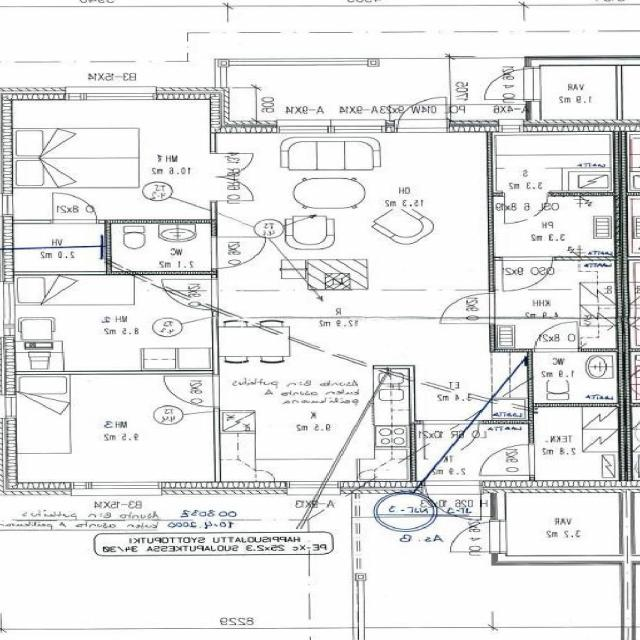door: (426, 482, 481, 529), (474, 68, 542, 100), (424, 421, 478, 459), (398, 91, 446, 133), (442, 522, 507, 552), (211, 237, 267, 269), (479, 445, 534, 476), (503, 258, 553, 292), (162, 280, 217, 310), (162, 377, 217, 407), (442, 294, 496, 324), (505, 190, 548, 223), (535, 321, 579, 353), (53, 192, 97, 224), (211, 177, 255, 200), (211, 154, 255, 176)
